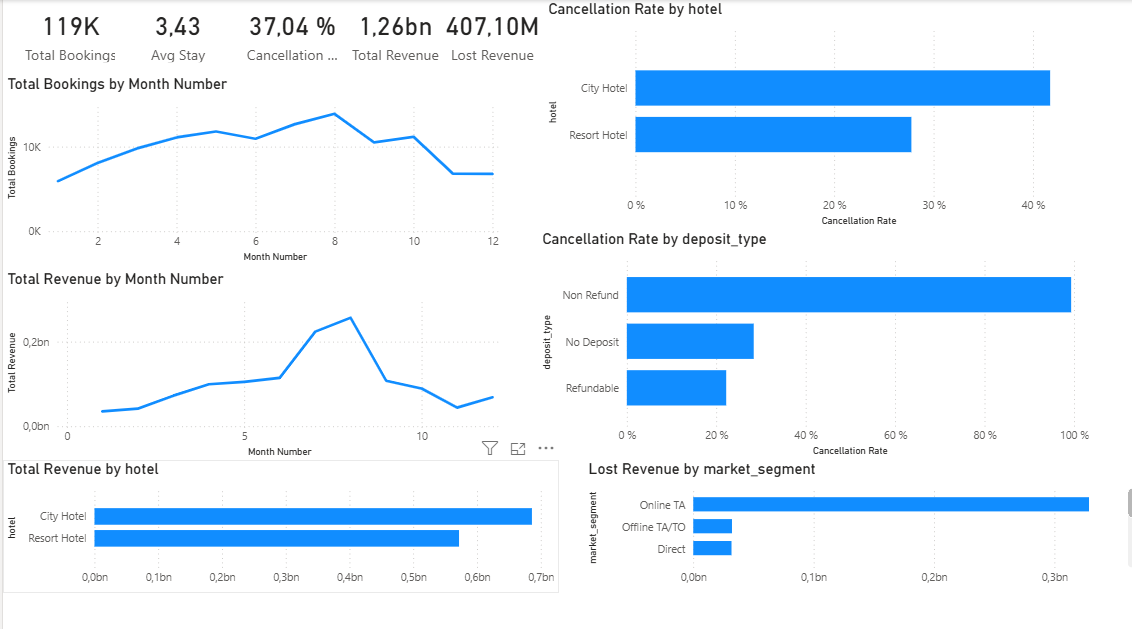

The dashboard page shown, as its layout file describes it:
{"tool":"powerbi","page":{"name":"Page 1","canvas":[1280,720],"ordinal":0},"visuals":[{"type":"card","fields":{"Values":["hotel_booking_clean33.Total Bookings"]},"box":[9.7,0,132.3,74.9],"z":0},{"type":"card","fields":{"Values":["Measures 2.Cancellation Rate"]},"box":[268.4,0,115.7,74.9],"z":1},{"type":"card","fields":{"Values":["Measures 2.Avg Stay"]},"box":[126.4,0,142,74.9],"z":2},{"type":"lineChart","fields":{"Y":["hotel_booking_clean33.Total Bookings"],"Category":["hotel_booking_clean33.Month Number"]},"box":[0,84.6,566.1,215],"z":3},{"type":"barChart","fields":{"Category":["hotel_booking_clean33.hotel"],"Y":["Measures 2.Cancellation Rate"]},"box":[608.9,0,625.4,258.7],"z":4},{"type":"card","fields":{"Values":["Measures 2.Total Revenue"]},"box":[384.2,0,115.7,74.9],"z":7},{"type":"card","fields":{"Values":["Measures 2.Lost Revenue"]},"box":[493.1,0,115.7,74.9],"z":8},{"type":"lineChart","fields":{"Y":["Measures 2.Total Revenue"],"Category":["hotel_booking_clean33.Month Number"]},"box":[0,303.5,566.1,215],"z":9},{"type":"clusteredBarChart","fields":{"Category":["hotel_booking_clean33.deposit_type"],"Y":["Measures 2.Cancellation Rate"]},"box":[602.1,258.7,625.4,258.7],"z":10},{"type":"clusteredBarChart","fields":{"Y":["Measures 2.Lost Revenue"],"Category":["hotel_booking_clean33.market_segment"]},"box":[654.6,517.4,625.4,149.8],"z":11},{"type":"clusteredBarChart","fields":{"Category":["hotel_booking_clean33.hotel"],"Y":["Measures 2.Total Revenue"]},"box":[0,517.4,625.4,149.8],"z":12}]}

Visuals, with their boxes in screenshot pixels (x1, y1, x2, y2), scaled from the page's 1280x720 canvas onto the 1132x629 screenshot:
card - hotel_booking_clean33.Total Bookings: [left=9, top=0, right=126, bottom=65]
card - Measures 2.Cancellation Rate: [left=237, top=0, right=340, bottom=65]
card - Measures 2.Avg Stay: [left=112, top=0, right=237, bottom=65]
lineChart - hotel_booking_clean33.Total Bookings x hotel_booking_clean33.Month Number: [left=0, top=74, right=501, bottom=262]
barChart - hotel_booking_clean33.hotel x Measures 2.Cancellation Rate: [left=538, top=0, right=1092, bottom=226]
card - Measures 2.Total Revenue: [left=340, top=0, right=442, bottom=65]
card - Measures 2.Lost Revenue: [left=436, top=0, right=538, bottom=65]
lineChart - Measures 2.Total Revenue x hotel_booking_clean33.Month Number: [left=0, top=265, right=501, bottom=453]
clusteredBarChart - hotel_booking_clean33.deposit_type x Measures 2.Cancellation Rate: [left=532, top=226, right=1086, bottom=452]
clusteredBarChart - Measures 2.Lost Revenue x hotel_booking_clean33.market_segment: [left=579, top=452, right=1131, bottom=583]
clusteredBarChart - hotel_booking_clean33.hotel x Measures 2.Total Revenue: [left=0, top=452, right=553, bottom=583]
